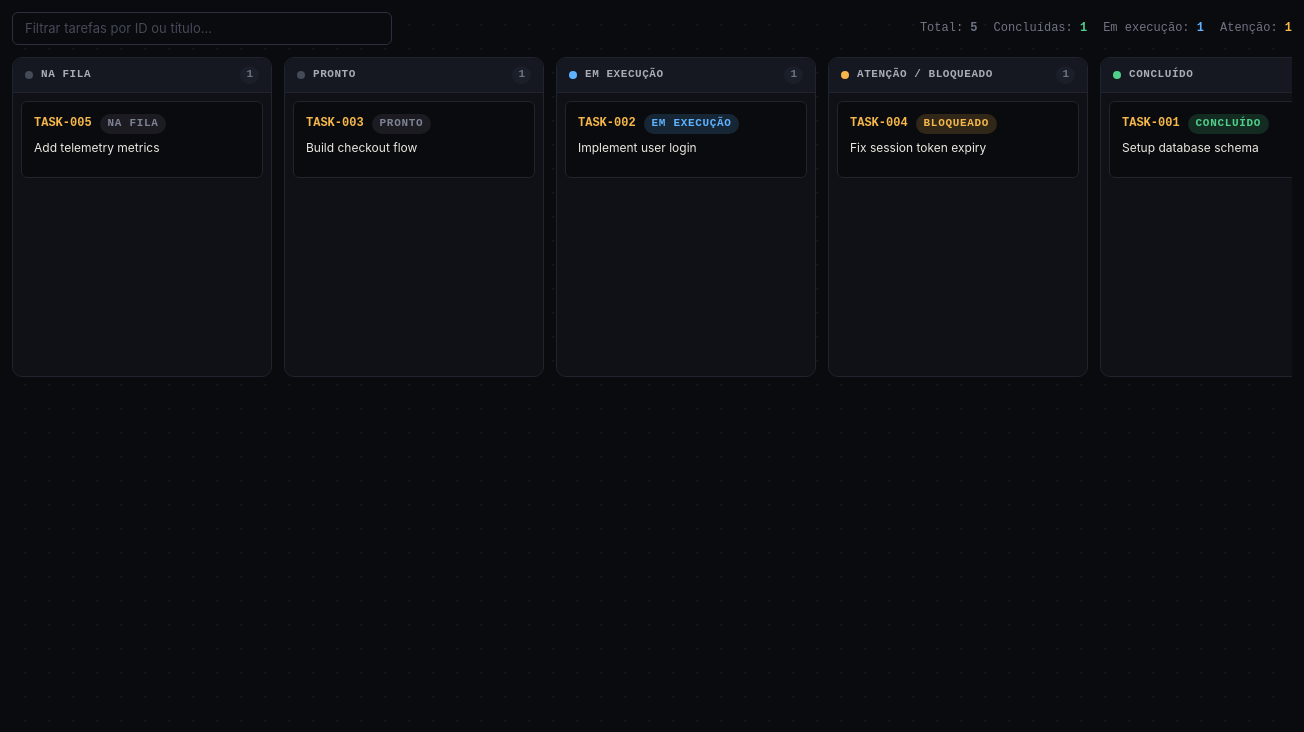
Test case: Kanban › filters task cards by search query
The width and height of the screenshot is (1304, 732).
Type "checkout" into the search field with placeholder "Filtrar tarefas por ID ou título...".
click(202, 28); type("checkout")  # box [12,12,392,45]
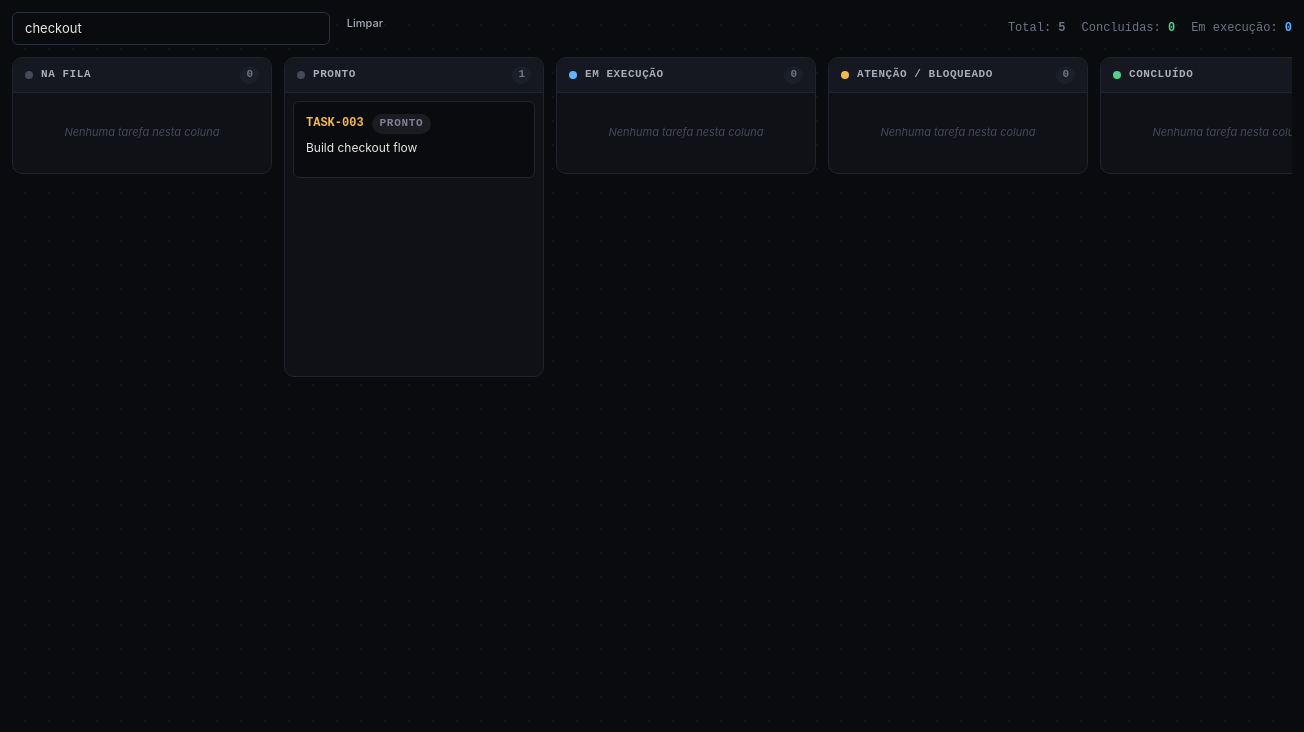
Expected: the text "TASK-003" is shown, [306,115,364,132]
Expected: the button "TASK-001" is gone
Expected: the button "TASK-002" is gone
